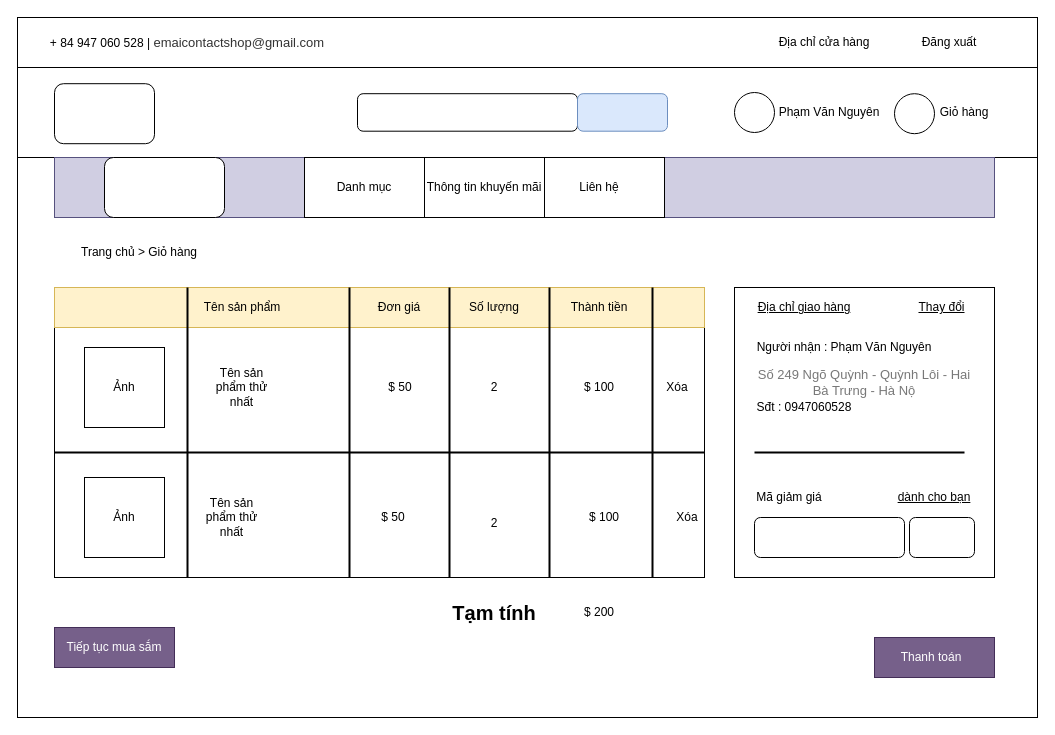
The diagram is 1055 pixels wide and 735 high, and some of its shapes have lost their labels. The shapes that lost their labels are listed below. From the top down, each one's centre as x and y in pixels, then its label:
At pixel 104 113: "Logo shop".
At pixel 622 112: "Tìm kiếm".
At pixel 164 187: "Trang chủ".
At pixel 941 537: "Áp dụng".
